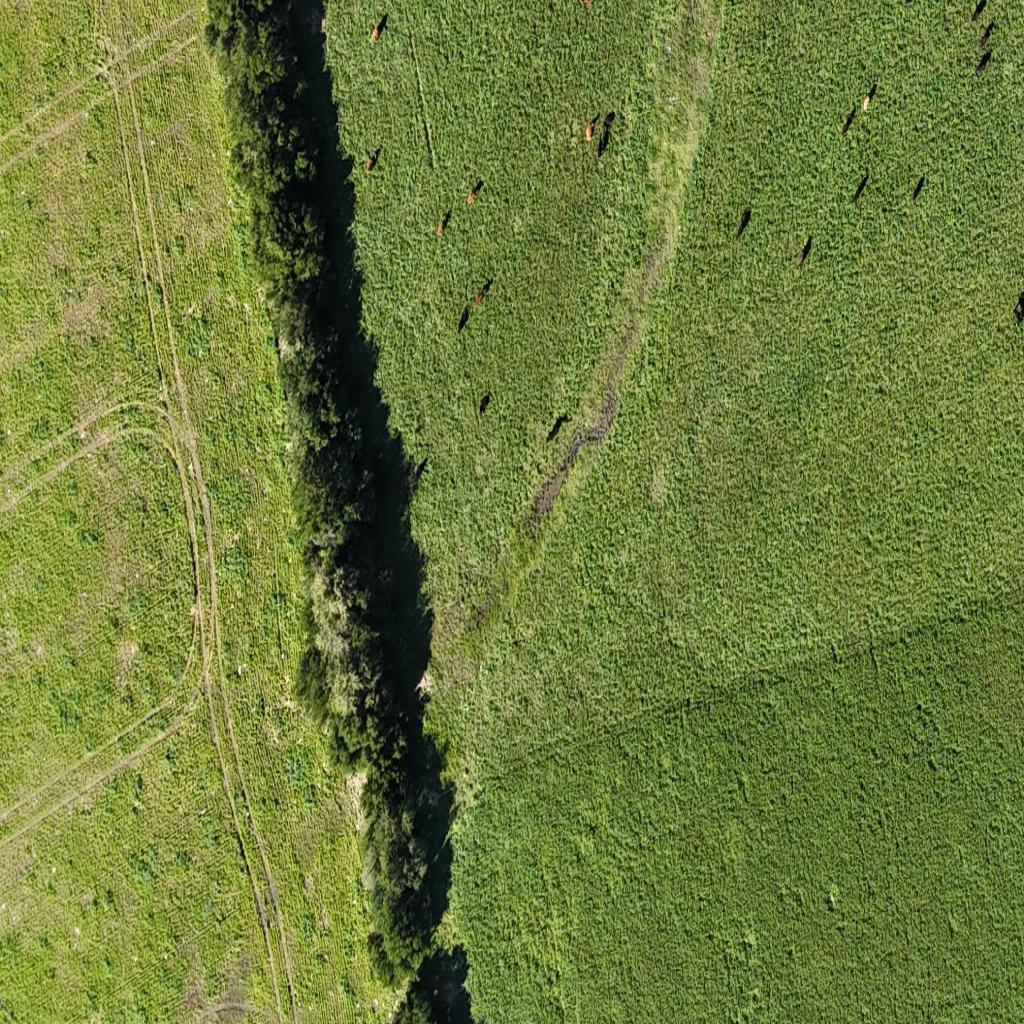cow: (546, 412, 569, 444), (852, 168, 869, 204), (471, 602, 491, 632), (796, 236, 812, 272), (370, 12, 387, 44), (976, 47, 994, 76), (413, 455, 430, 485), (474, 277, 491, 306), (737, 206, 751, 240), (979, 20, 996, 48), (864, 80, 878, 110), (467, 179, 482, 207), (365, 148, 380, 175), (842, 108, 856, 136), (912, 173, 926, 201), (438, 208, 451, 238), (971, 0, 987, 24), (597, 124, 608, 158), (457, 306, 469, 333), (586, 117, 598, 143), (479, 392, 490, 416), (1017, 291, 1024, 324), (603, 110, 615, 129), (862, 93, 871, 112), (156, 282, 164, 302), (274, 338, 282, 358)
